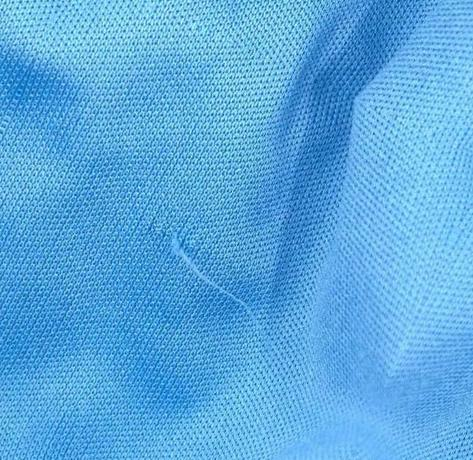snag: (159, 220, 270, 334)
